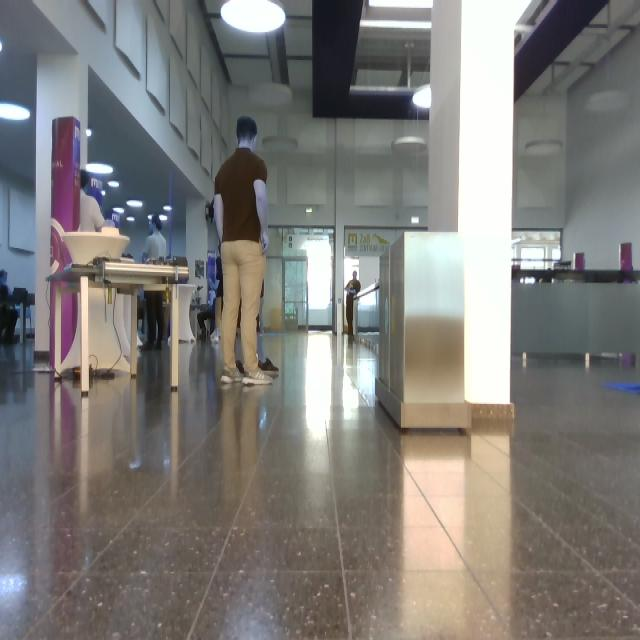door: (283, 228, 333, 330), (284, 258, 307, 330)
light bulb: (221, 1, 286, 33), (1, 104, 31, 121), (414, 85, 431, 108), (87, 164, 113, 173)
person: (215, 117, 271, 385), (346, 272, 361, 338)
pillar: (429, 1, 528, 436), (38, 56, 87, 350)
table: (47, 220, 189, 396)
tiled floor: (1, 334, 640, 640)
trash bin: (376, 233, 469, 429)
